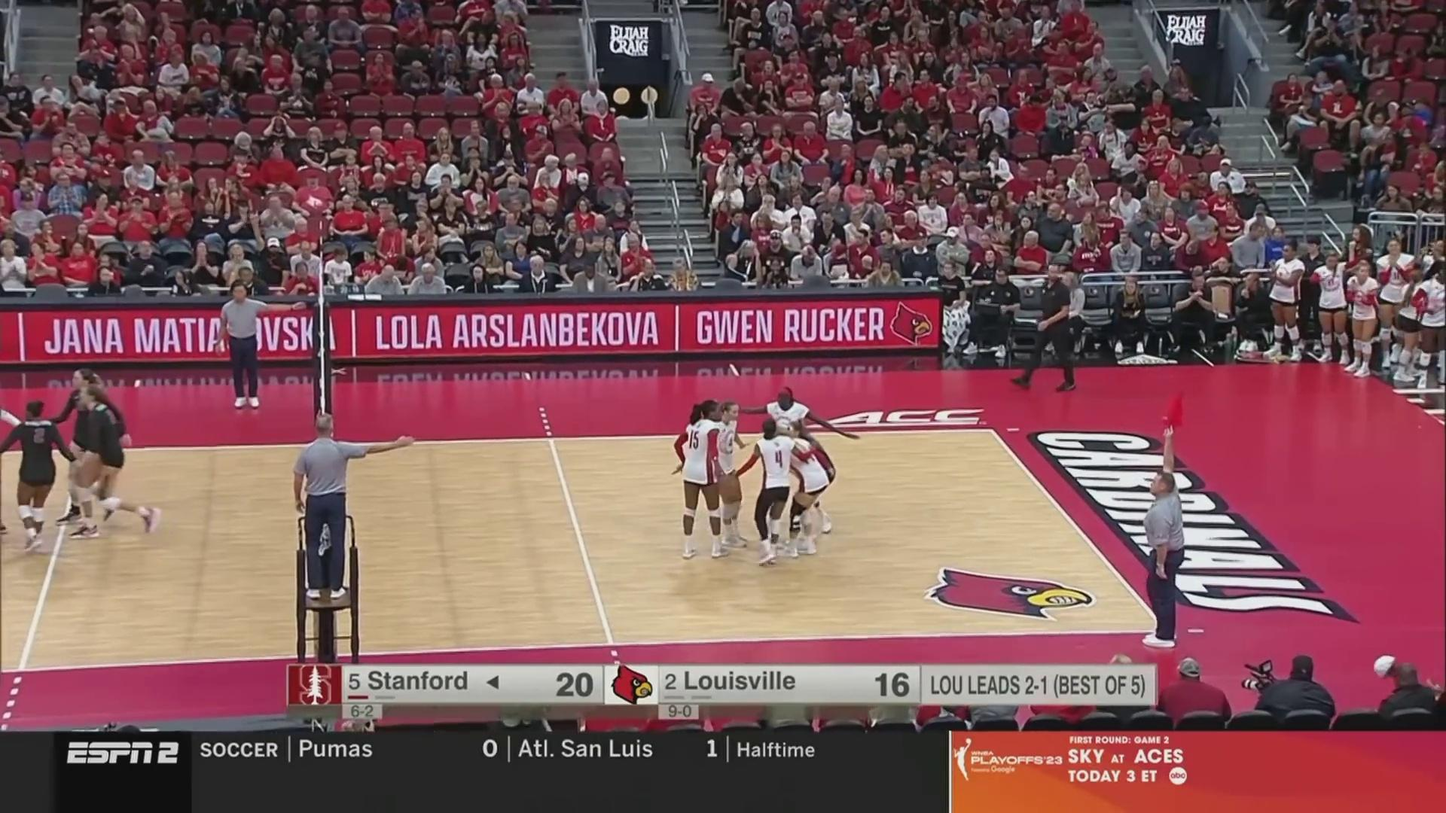player: (740, 389, 844, 520), (76, 385, 159, 539), (50, 370, 131, 521), (0, 400, 71, 555), (741, 417, 806, 563), (674, 399, 724, 557), (773, 427, 829, 559), (783, 423, 837, 536), (710, 403, 752, 546)
refree: (289, 415, 398, 599), (1138, 429, 1185, 648), (218, 284, 298, 411)
